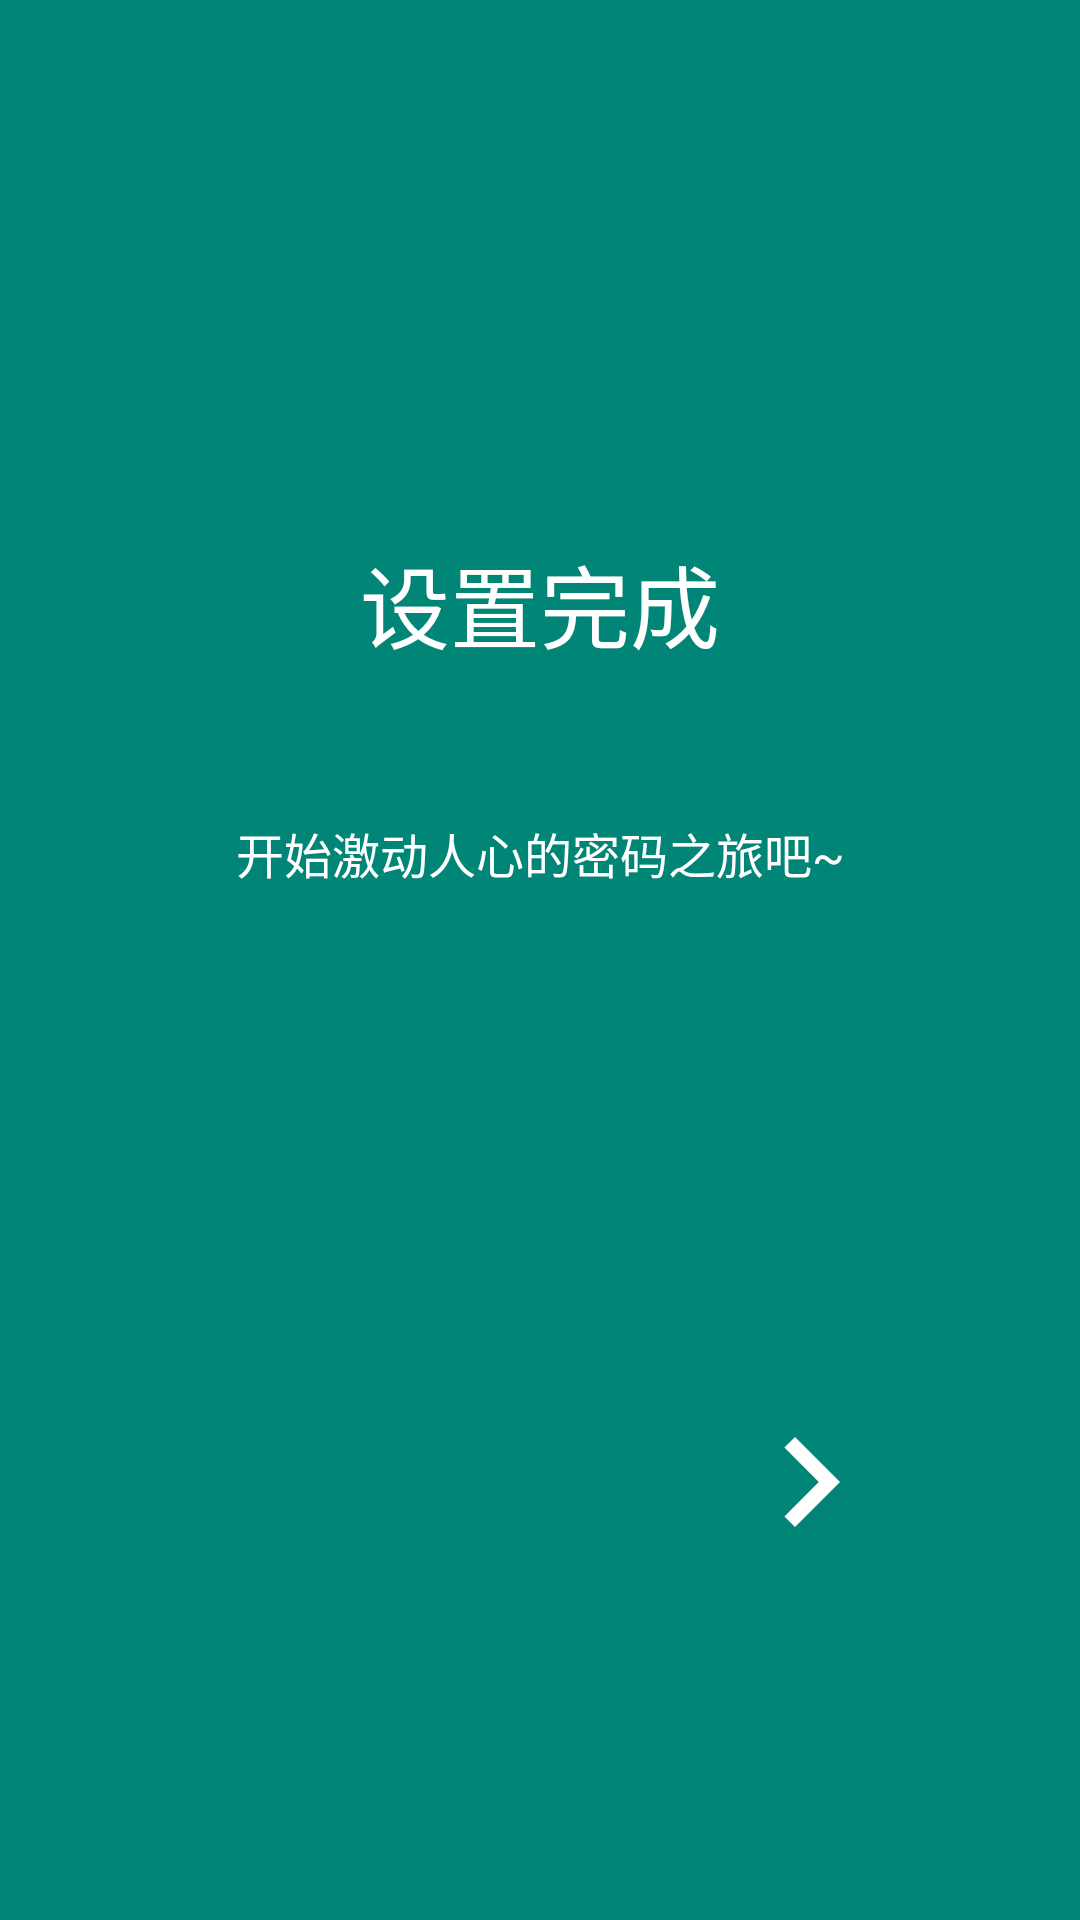

Screen size 1080 × 1920. Icon name, then its center in pixels as point (x, y):
next step: point (812, 1482)
